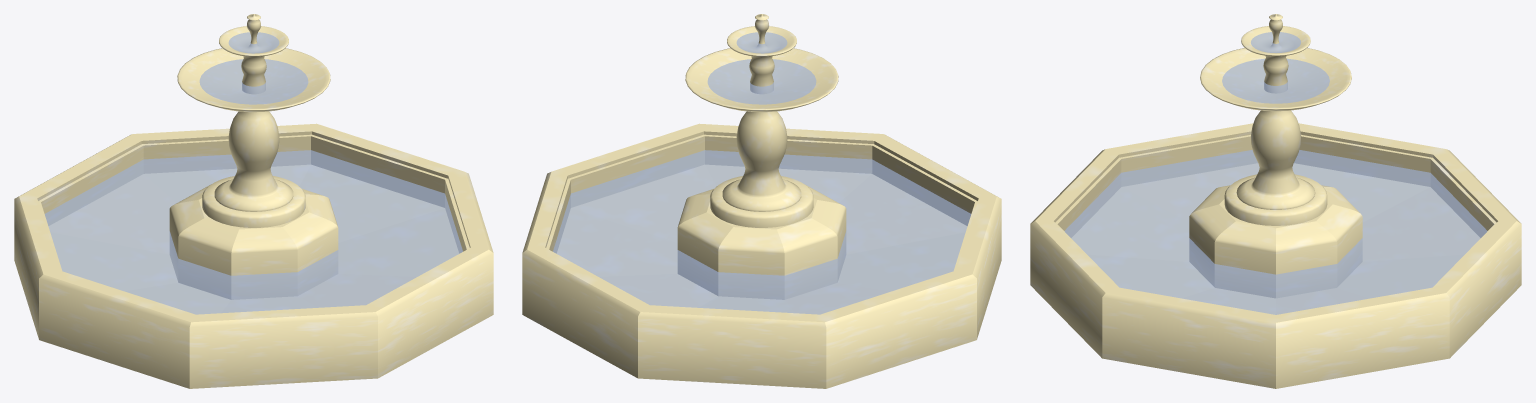
The model's file is fountain.glb.
3 renders of one model, left to right at view 1: azimuth 30°, elevation 25°; view 2: azimuth 150°, elevation 25°; view 3: azimuth 270°, elevation 25°, orthographic.
Visible parts, largest first — view 1: Cylinder_0, Water_2, Cylinder.001_1; view 2: Cylinder_0, Water_2, Cylinder.001_1; view 3: Cylinder_0, Water_2, Cylinder.001_1.
Boxes of the visible parts, bbox=[...] form: Cylinder_0: bbox=[14, 123, 493, 388]; Water_2: bbox=[45, 32, 462, 314]; Cylinder.001_1: bbox=[177, 14, 330, 227]; Cylinder_0: bbox=[522, 123, 1001, 388]; Water_2: bbox=[553, 32, 970, 314]; Cylinder.001_1: bbox=[685, 14, 838, 227]; Cylinder_0: bbox=[1030, 123, 1521, 388]; Water_2: bbox=[1064, 32, 1487, 314]; Cylinder.001_1: bbox=[1200, 14, 1351, 225].
Size of the model in its own units: 13.91 by 8.45 by 13.91.
Materials: 3 (2 with a texture image).
